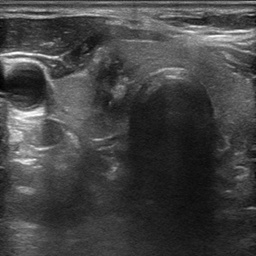mass: (91, 54, 137, 111)
